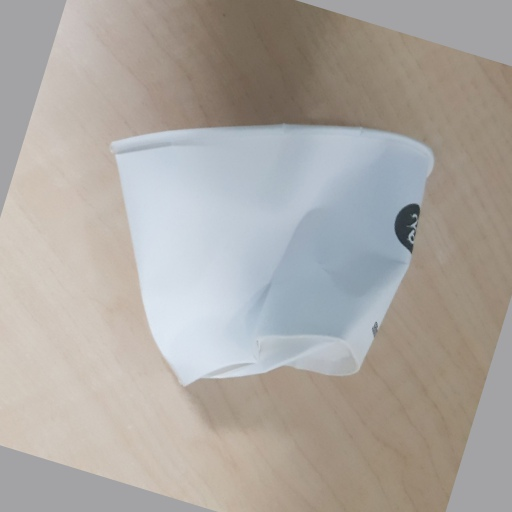Paper_1: (110, 121, 434, 389)
